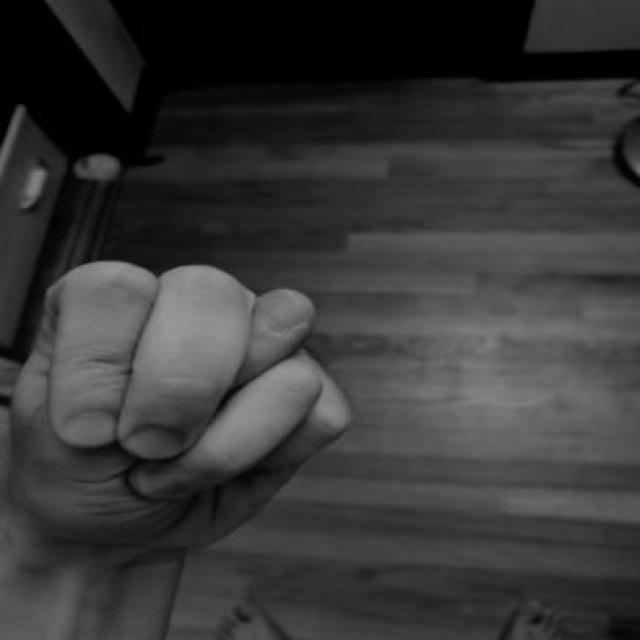N: (0, 248, 370, 563)
